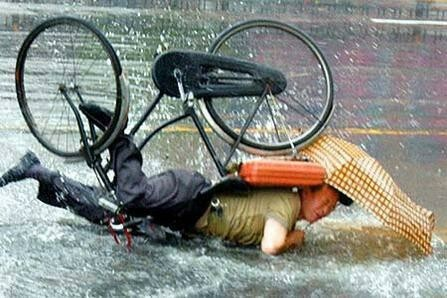falling: (7, 101, 351, 262)
